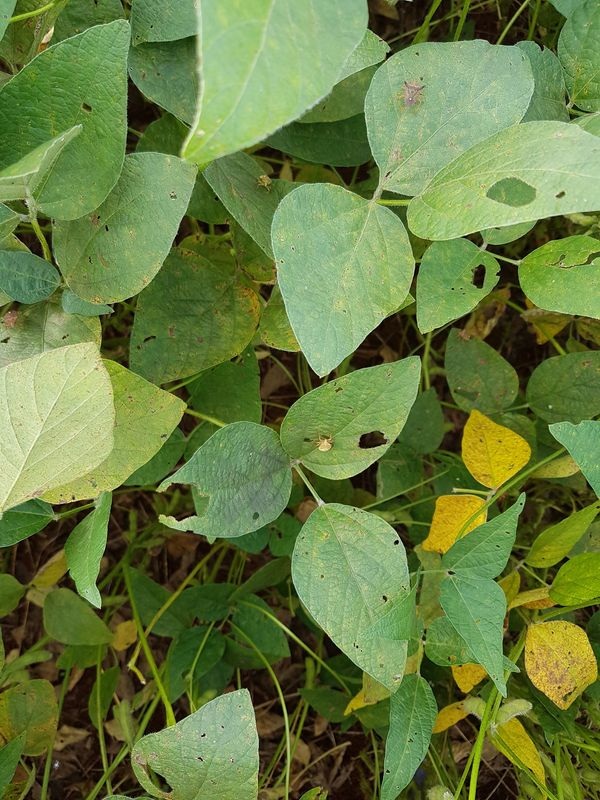Euschistus_heros_adulto: (391, 74, 434, 120), (1, 305, 28, 335)
Euschistus_heros_ninfa: (250, 169, 279, 198), (311, 430, 338, 459)
